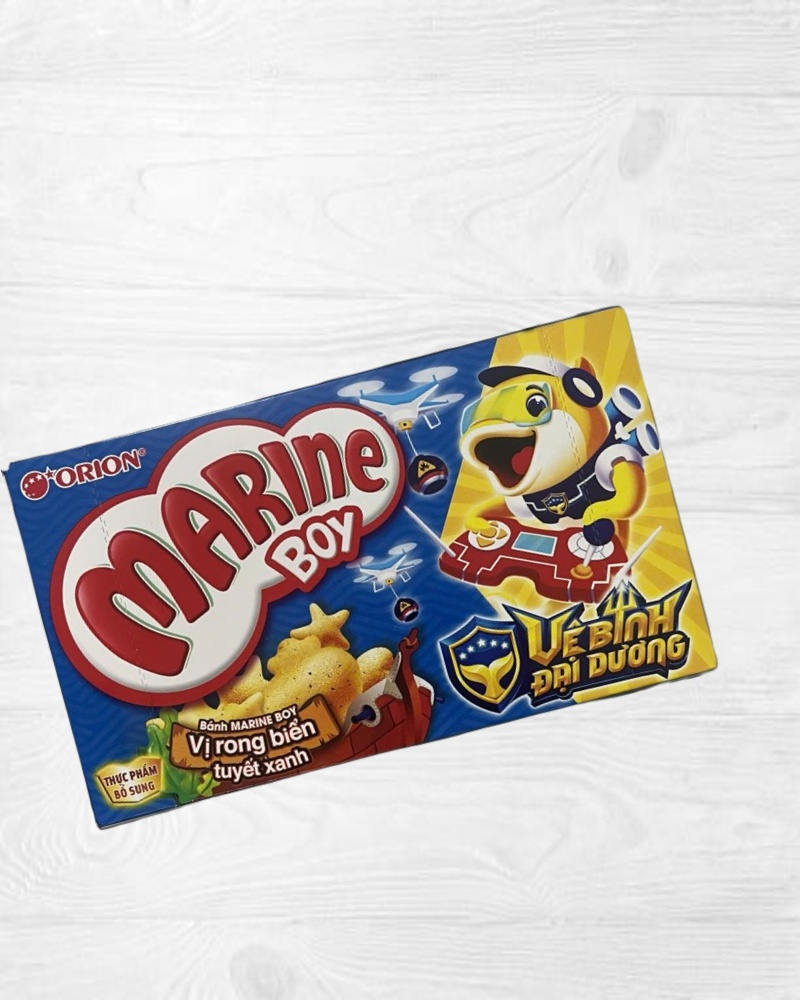Marine: (3, 299, 723, 835)
